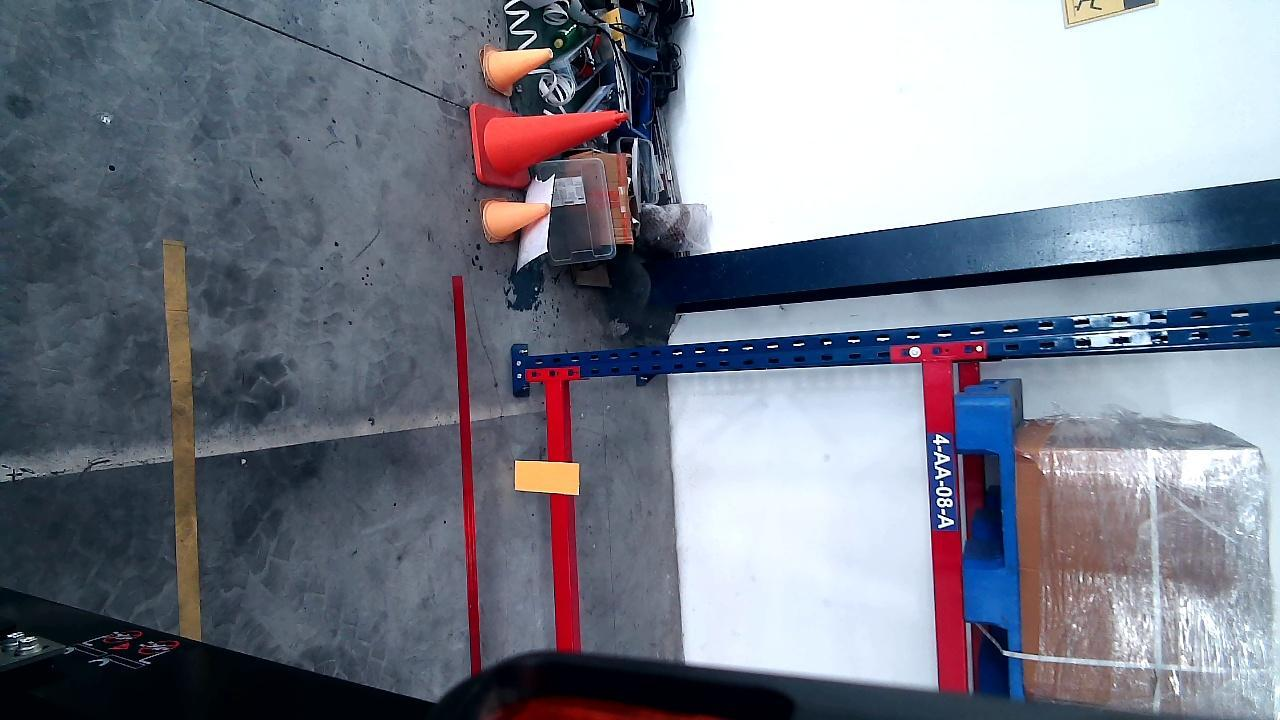red_line: (450, 278, 482, 677)
yellow_line: (165, 235, 200, 639)
